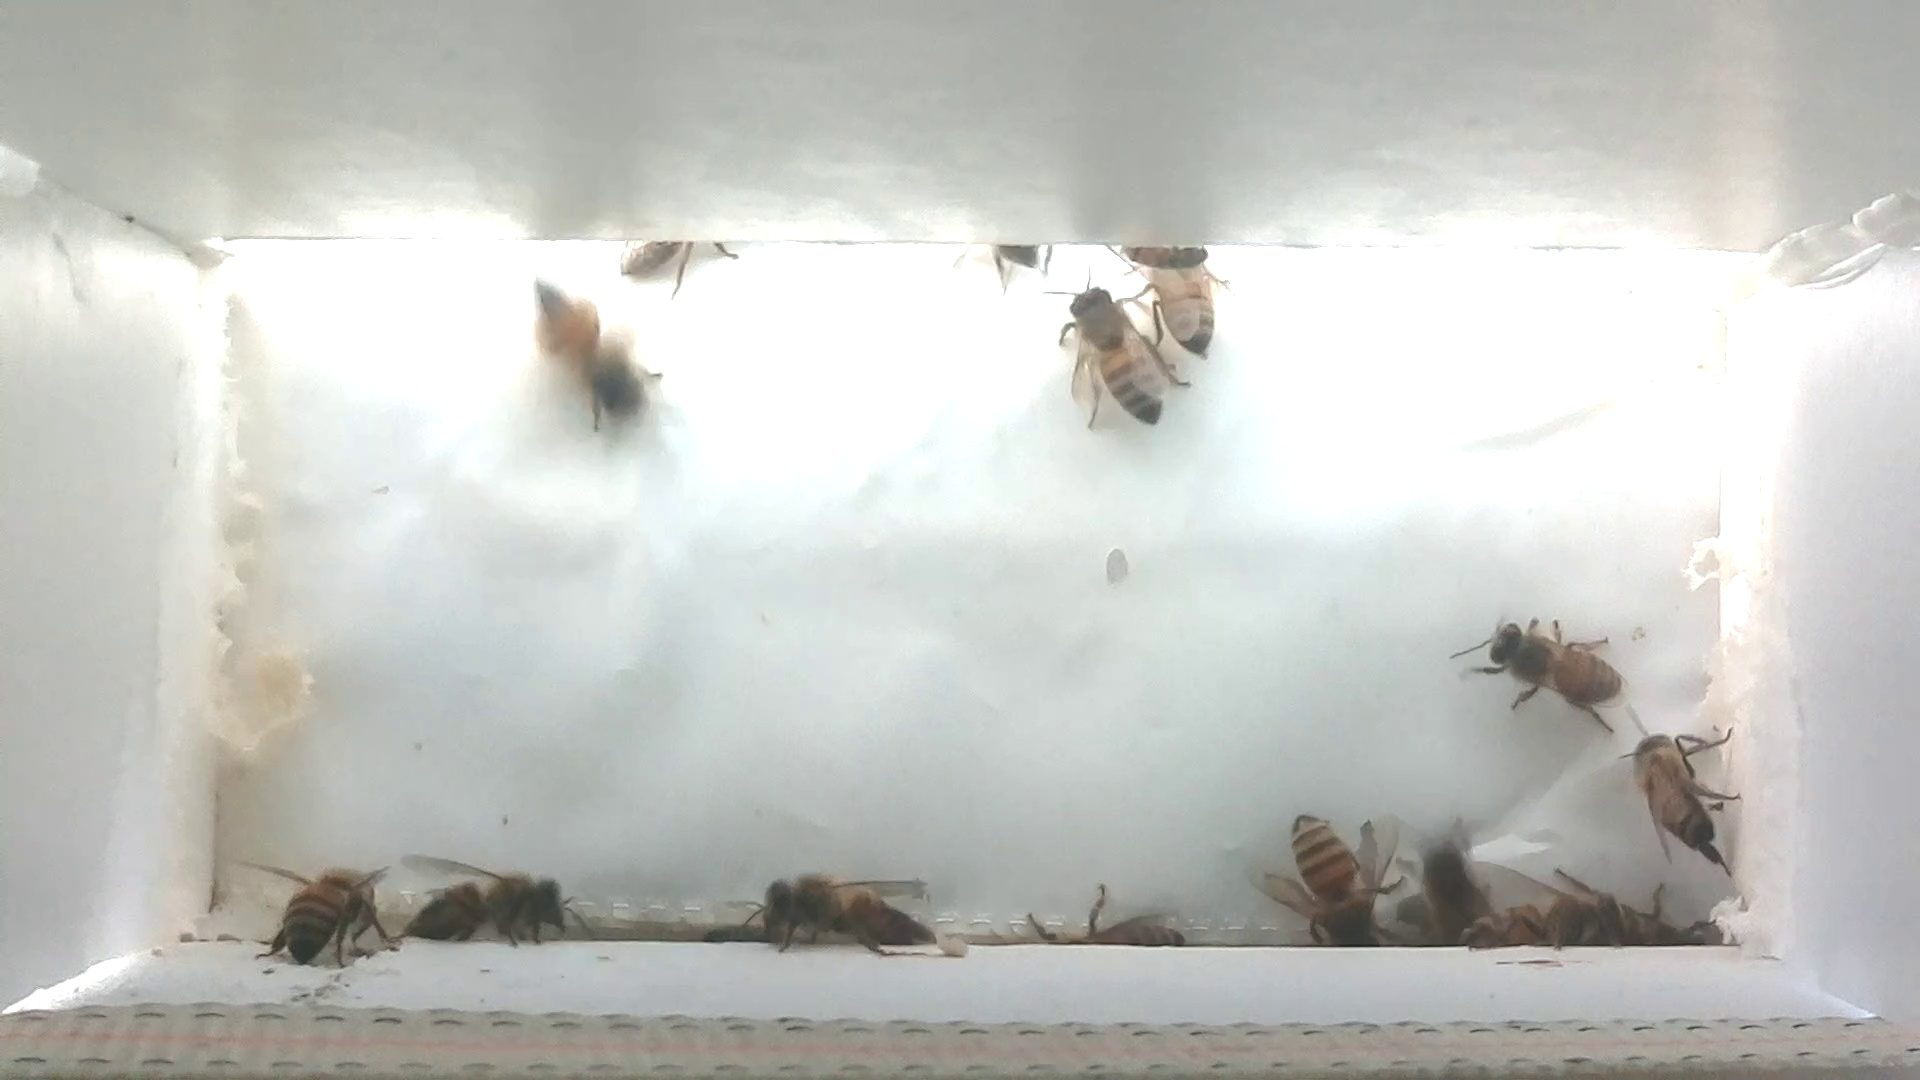bee: (504, 269, 684, 440), (1445, 589, 1643, 738), (1038, 265, 1201, 443), (1596, 705, 1749, 881), (740, 858, 961, 968), (233, 841, 398, 978), (384, 851, 595, 953), (1258, 796, 1411, 934), (1121, 225, 1240, 368), (1029, 880, 1197, 961)
